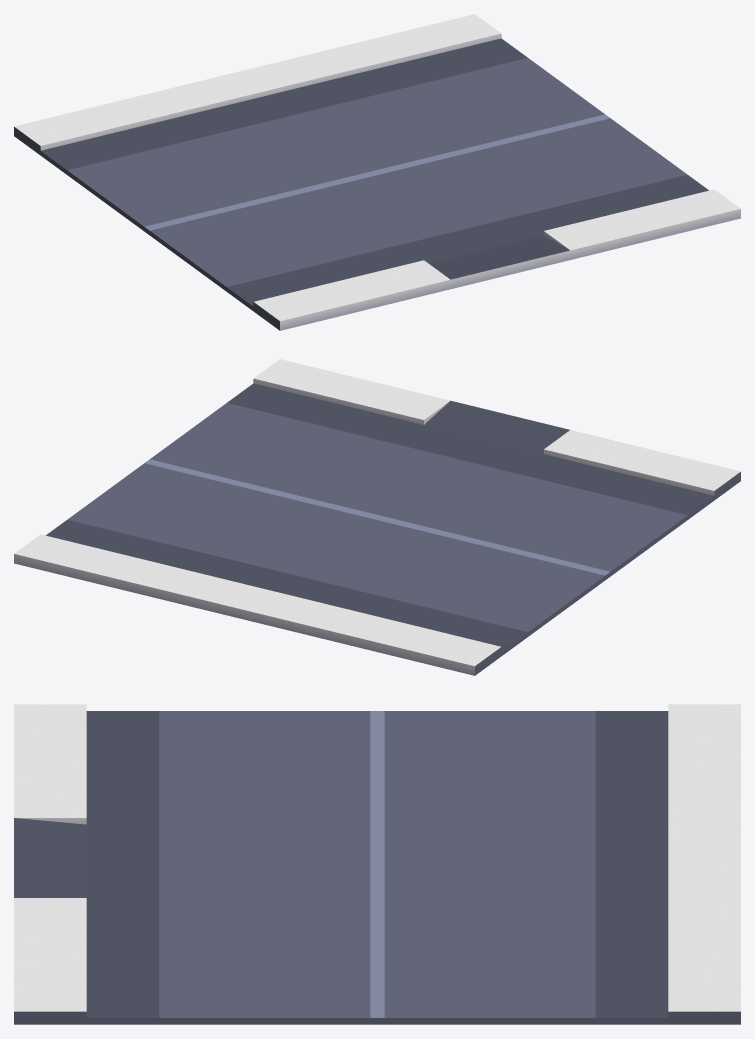
File: road-driveway-single.glb
The picture shows the model from 3 angles, top to bottom: view 1: azimuth 30°, elevation 25°; view 2: azimuth 150°, elevation 25°; view 3: azimuth 270°, elevation 25°; orthographic projection. The views are drawn at different scales.
Visible parts, largest first — view 1: road-driveway-single; view 2: road-driveway-single; view 3: road-driveway-single.
Boxes of the visible parts, <box> form: road-driveway-single: <box>14,14,740,330</box>; road-driveway-single: <box>14,359,740,675</box>; road-driveway-single: <box>14,704,740,1024</box>.
Size of the model in its own units: 1 by 0.02 by 1.
Materials: 1 (1 with a texture image).
